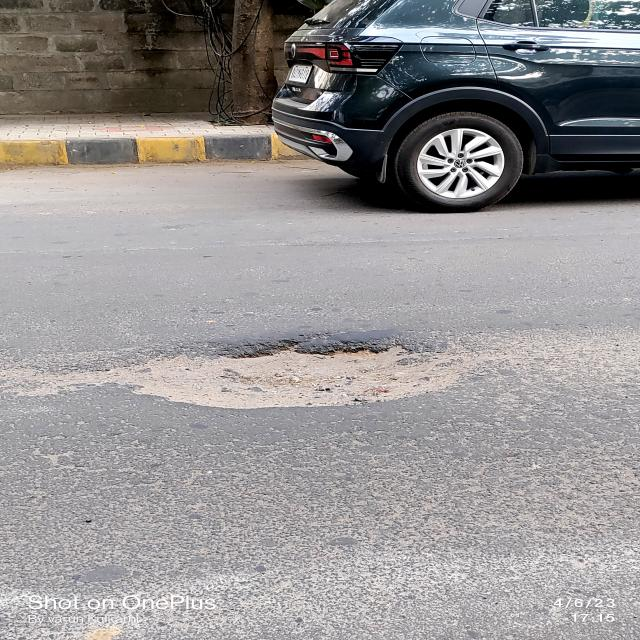potholes: (87, 327, 471, 421)
